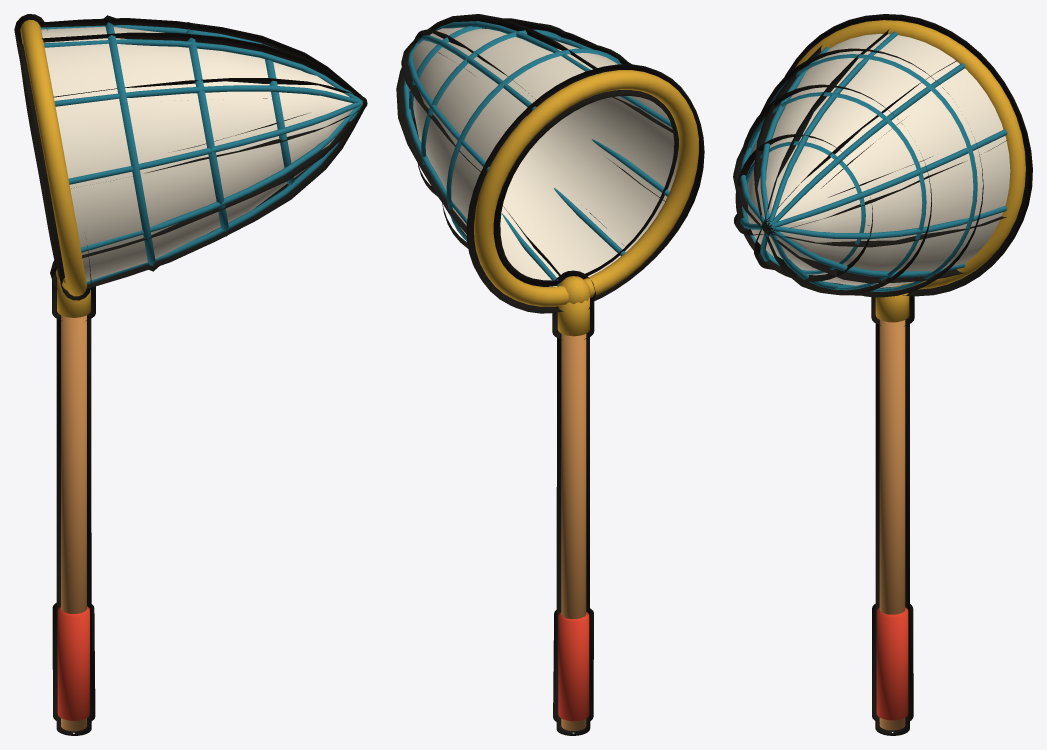
Rendered from butterflynet.glb.
3 views of the same model, side by side, from view 1: azimuth 30°, elevation 25°; view 2: azimuth 150°, elevation 25°; view 3: azimuth 270°, elevation 25° (orthographic). The views are drawn at different scales.
Parts seen in each view (by area): view 1: ButterflyNet, ButterflyNet_outline; view 2: ButterflyNet, ButterflyNet_outline; view 3: ButterflyNet, ButterflyNet_outline.
Part boxes in pixels (bbox=[...]): ButterflyNet: bbox=[20, 19, 362, 731]; ButterflyNet_outline: bbox=[14, 14, 367, 735]; ButterflyNet: bbox=[403, 21, 698, 730]; ButterflyNet_outline: bbox=[396, 14, 704, 735]; ButterflyNet: bbox=[740, 20, 1025, 730]; ButterflyNet_outline: bbox=[733, 14, 1032, 735].
Size of the model in its own units: 1.38 by 3 by 1.17.
